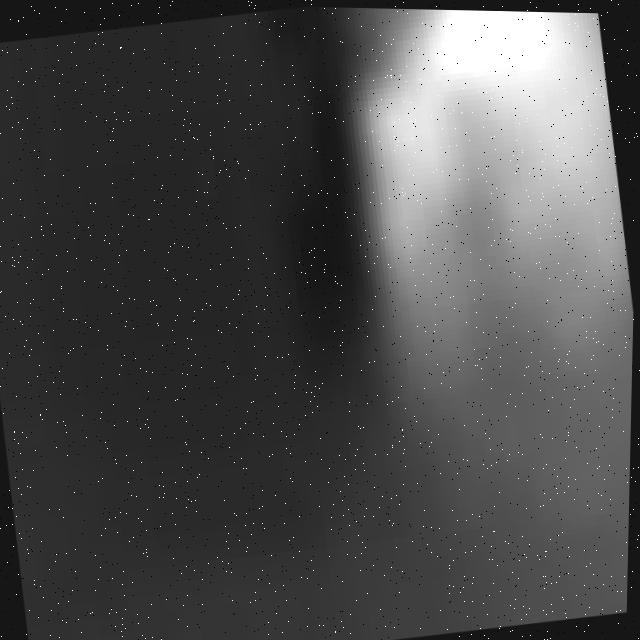person: (310, 7, 640, 481)
